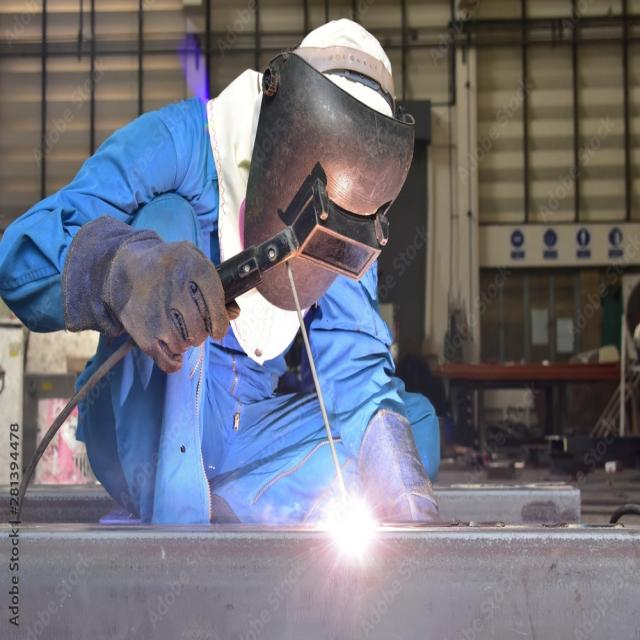welding: (328, 496, 372, 556)
